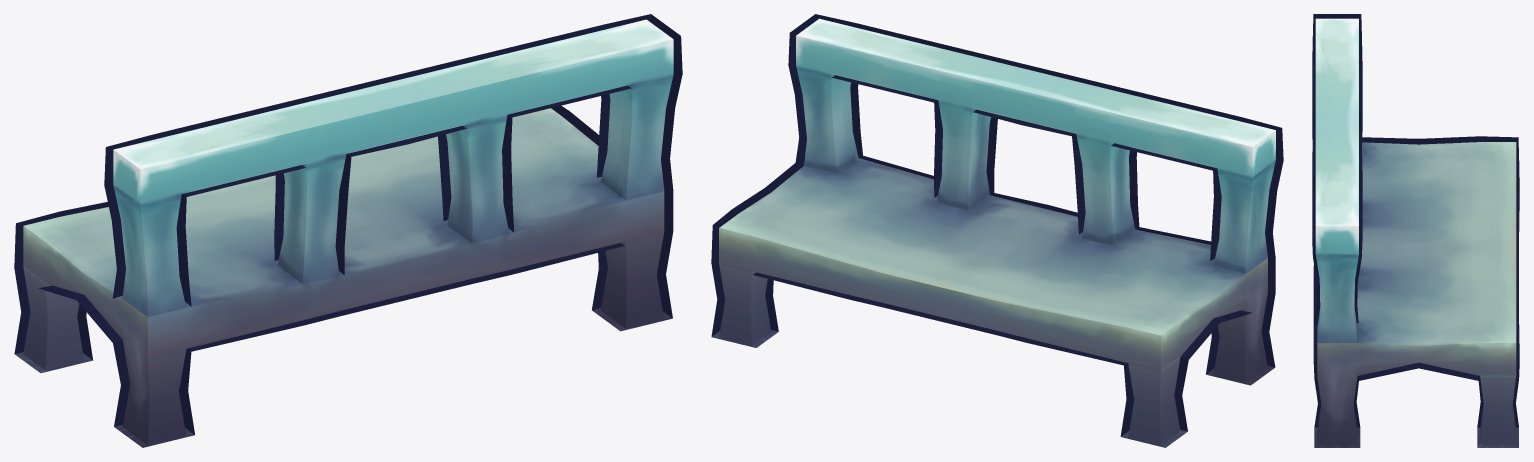
Rendered from Bench.gltf.
3 views of the same model, side by side, from view 1: azimuth 30°, elevation 25°; view 2: azimuth 150°, elevation 25°; view 3: azimuth 270°, elevation 25° (orthographic). The views are drawn at different scales.
Visible parts, largest first — view 1: Cube.011_TT_checker_3_0, Cube.011_Line art_0; view 2: Cube.011_TT_checker_3_0, Cube.011_Line art_0; view 3: Cube.011_TT_checker_3_0, Cube.011_Line art_0.
Part boxes in pixels (x1,y1,x2,y2): Cube.011_TT_checker_3_0: (15, 19, 673, 447); Cube.011_Line art_0: (14, 14, 682, 434); Cube.011_TT_checker_3_0: (711, 18, 1275, 447); Cube.011_Line art_0: (711, 14, 1283, 436); Cube.011_TT_checker_3_0: (1314, 18, 1518, 447); Cube.011_Line art_0: (1312, 14, 1519, 427).
Size of the model in its own units: 2 by 0.987 by 0.8234.
2 materials, 1 textured.
